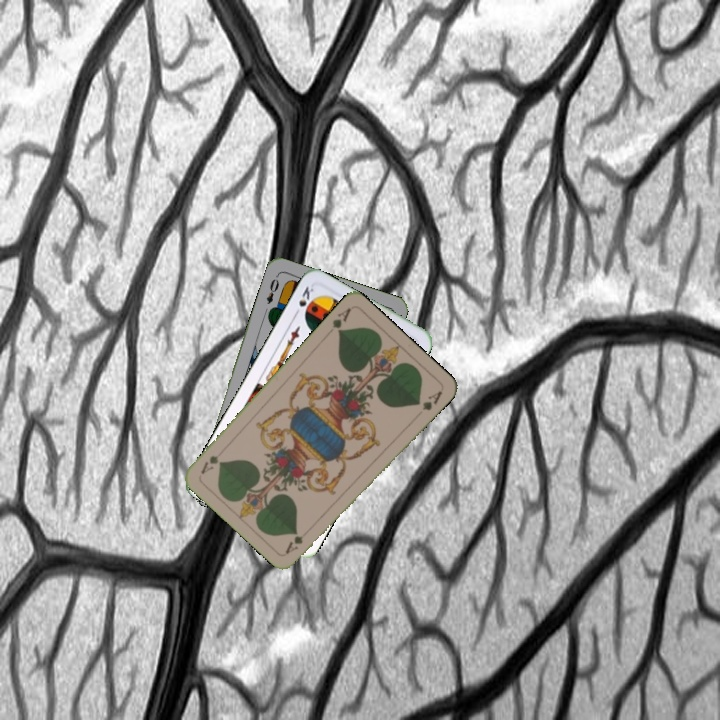EO: (262, 274, 282, 307)
GA: (328, 303, 354, 337), (281, 532, 306, 556)
SK: (290, 282, 316, 319)
